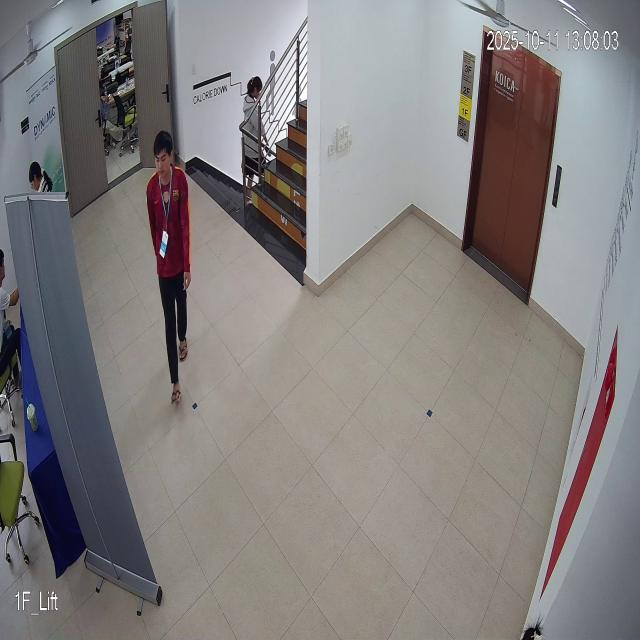face: (152, 123, 174, 182)
